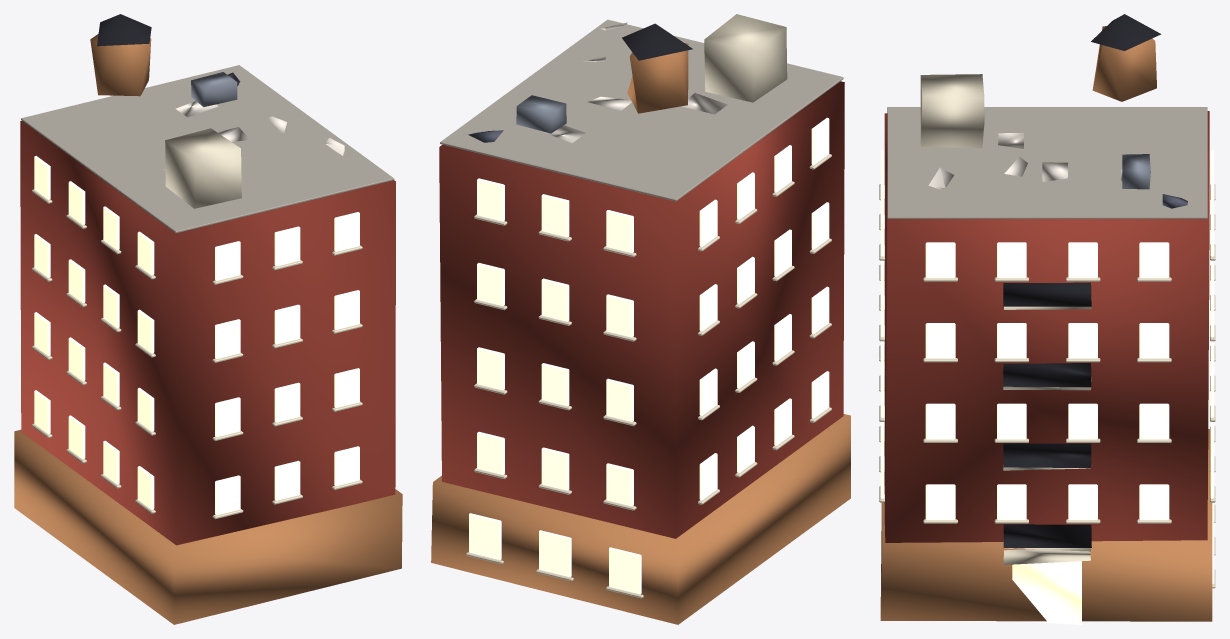
File: apartment.glb
The picture shows the model from 3 angles, left to right: view 1: azimuth 30°, elevation 25°; view 2: azimuth 150°, elevation 25°; view 3: azimuth 270°, elevation 25°; orthographic projection. The views are drawn at different scales.
Parts seen in each view (by area): view 1: apartment; view 2: apartment; view 3: apartment.
Part boxes in pixels (left/top/right/bottom): apartment: left=14, top=14, right=402, bottom=624; apartment: left=431, top=14, right=850, bottom=624; apartment: left=879, top=14, right=1215, bottom=624.
Bounding box in the file's own units: 10.45 × 19.59 × 11.34.
1 material, 1 textured.
